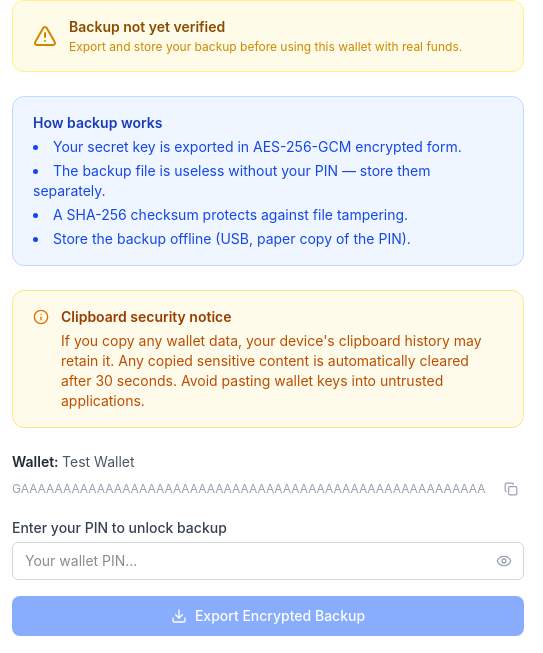
Test: WalletBackup – accessibility › export button becomes enabled after PIN is typed
In the password field with placeholder "Your wallet PIN…": (268, 561) [12,542,524,580], type "1234"
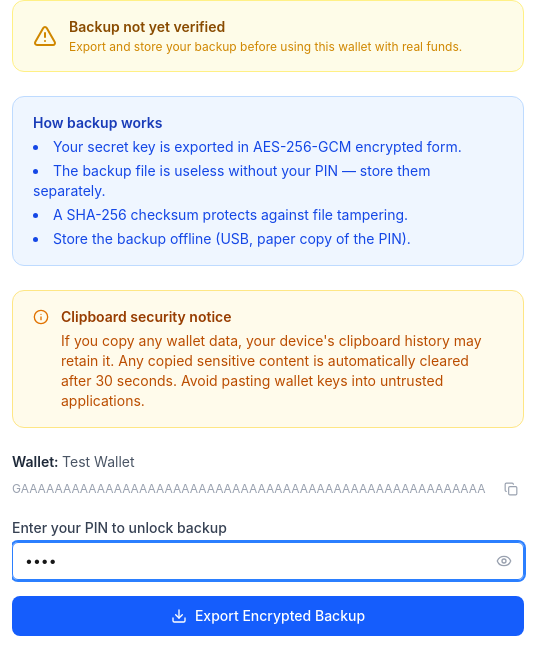
Expected: the button "Export Encrypted Backup" is enabled, [12,596,524,636]
